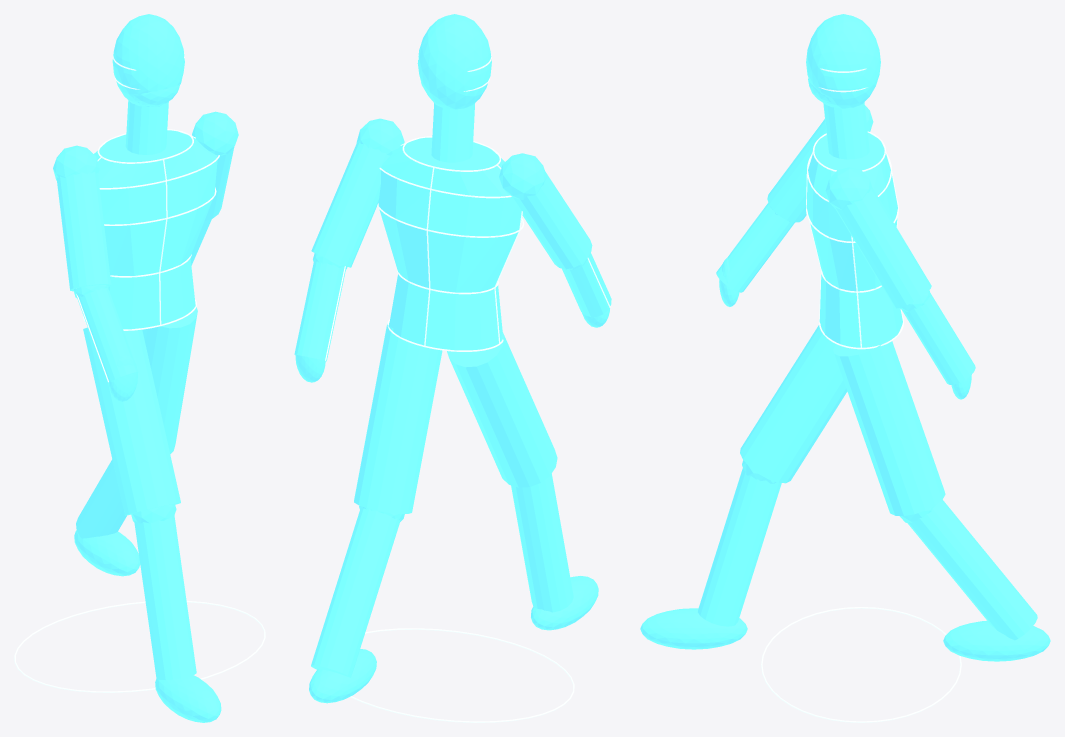
File: ghost-walking.glb
3 views of the same model, side by side, from view 1: azimuth 30°, elevation 25°; view 2: azimuth 150°, elevation 25°; view 3: azimuth 270°, elevation 25° (orthographic). The views are drawn at different scales.
Visible parts, largest first — view 1: 001_torso, 009_thigh, 011_shin, 003_head, 005_upper_arm, 026_thigh, 007_forearm, 028_shin, 017_foot, 034_foot, 002_neck, 030_shoulder (+5 smaller); view 2: 001_torso, 026_thigh, 009_thigh, 028_shin, 003_head, 011_shin, 022_upper_arm, 005_upper_arm, 024_forearm, 002_neck, 034_foot, 007_forearm (+4 smaller); view 3: 001_torso, 026_thigh, 009_thigh, 028_shin, 011_shin, 003_head, 022_upper_arm, 017_foot, 034_foot, 024_forearm, 007_forearm, 005_upper_arm (+2 smaller).
Part boxes in pixels (<box>): 001_torso: <box>94,130,217,329</box>; 009_thigh: <box>83,327,180,515</box>; 011_shin: <box>134,515,196,680</box>; 003_head: <box>112,14,184,107</box>; 005_upper_arm: <box>56,171,111,291</box>; 026_thigh: <box>142,307,197,453</box>; 007_forearm: <box>77,288,138,383</box>; 028_shin: <box>76,459,126,538</box>; 017_foot: <box>155,675,221,722</box>; 034_foot: <box>74,530,140,576</box>; 002_neck: <box>125,100,168,154</box>; 030_shoulder: <box>192,111,238,156</box>; 001_torso: <box>378,137,521,350</box>; 026_thigh: <box>354,322,442,513</box>; 009_thigh: <box>447,331,557,487</box>; 028_shin: <box>311,508,400,677</box>; 003_head: <box>417,14,491,109</box>; 011_shin: <box>511,473,573,612</box>; 022_upper_arm: <box>311,142,389,267</box>; 005_upper_arm: <box>513,172,592,269</box>; 024_forearm: <box>294,261,346,361</box>; 002_neck: <box>431,103,474,162</box>; 034_foot: <box>309,649,376,703</box>; 007_forearm: <box>562,253,611,317</box>; 001_torso: <box>806,132,902,347</box>; 026_thigh: <box>833,339,945,515</box>; 009_thigh: <box>740,325,847,483</box>; 028_shin: <box>907,499,1037,640</box>; 011_shin: <box>698,468,781,626</box>; 003_head: <box>806,14,880,108</box>; 022_upper_arm: <box>836,187,931,308</box>; 017_foot: <box>640,608,747,649</box>; 034_foot: <box>943,620,1050,661</box>; 024_forearm: <box>902,293,975,384</box>; 007_forearm: <box>716,202,794,292</box>; 005_upper_arm: <box>767,119,826,222</box>.
Bounding box in the file's own units: 0.684 × 1.8 × 1.03.
